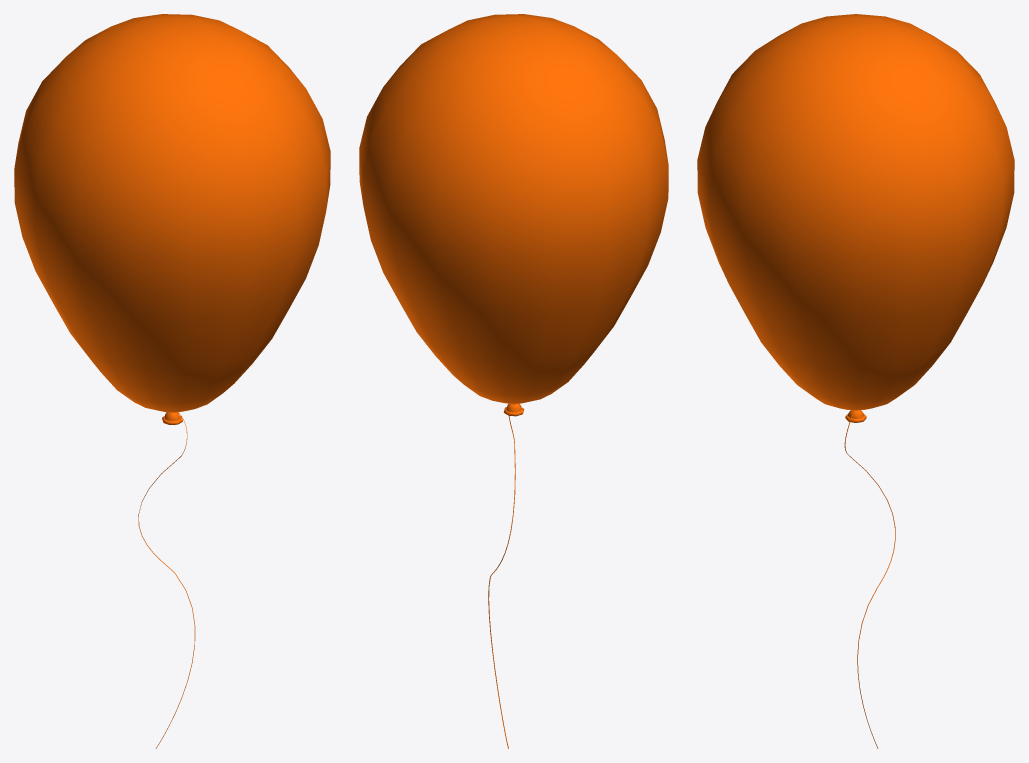
The model's file is orange_balloon.fbx.
3 views of the same model, side by side, from view 1: azimuth 30°, elevation 25°; view 2: azimuth 150°, elevation 25°; view 3: azimuth 270°, elevation 25° (orthographic). The views are drawn at different scales.
Parts seen in each view (by area): view 1: Balloon.007; view 2: Balloon.007; view 3: Balloon.007.
Part boxes in pixels (x1,y1,x2,y2): Balloon.007: (14,14,330,748); Balloon.007: (359,14,668,748); Balloon.007: (697,14,1014,748).
Size of the model in its own units: 26.48 by 66.4 by 26.48.
